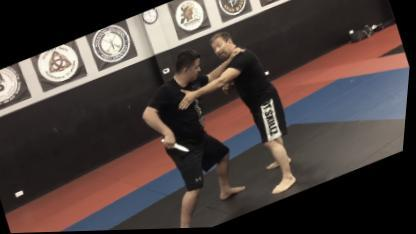knife: (158, 128, 196, 165)
